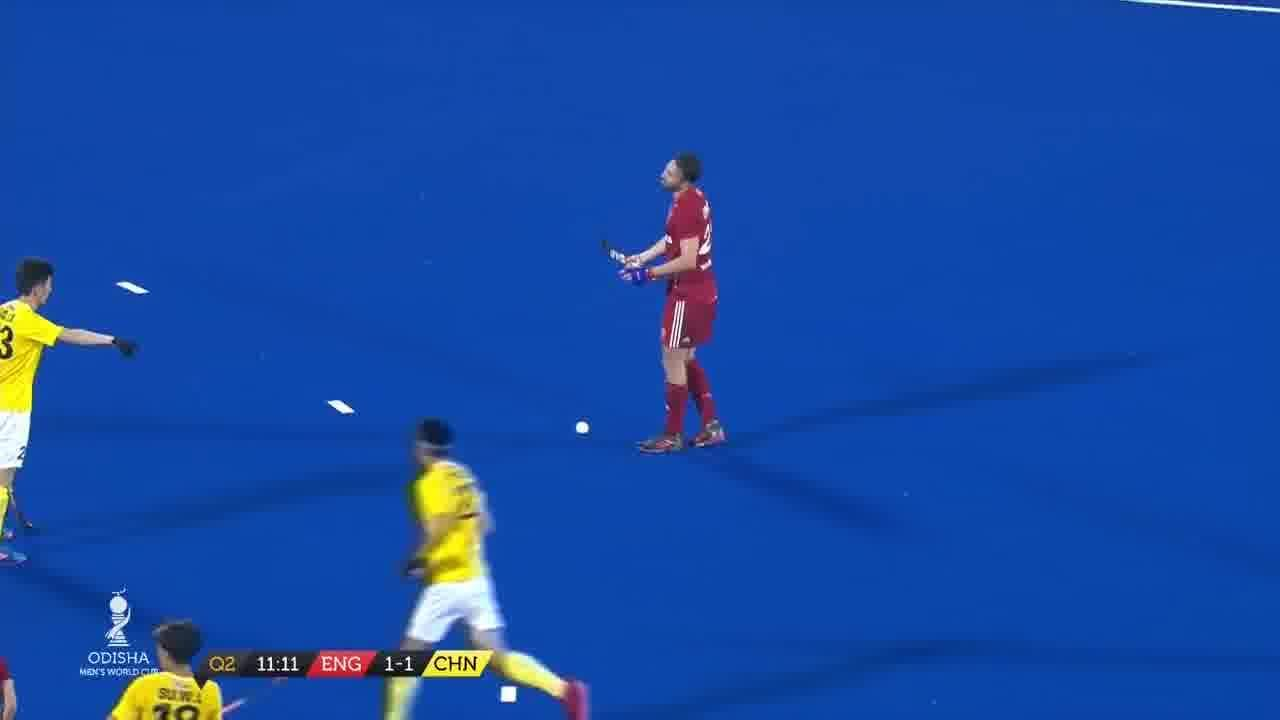ball: (568, 412, 598, 446)
